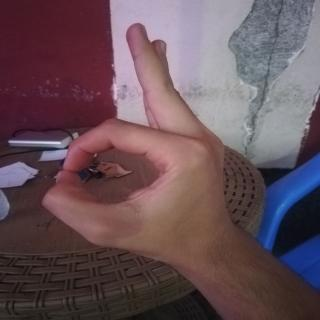Space: (38, 16, 252, 262)
